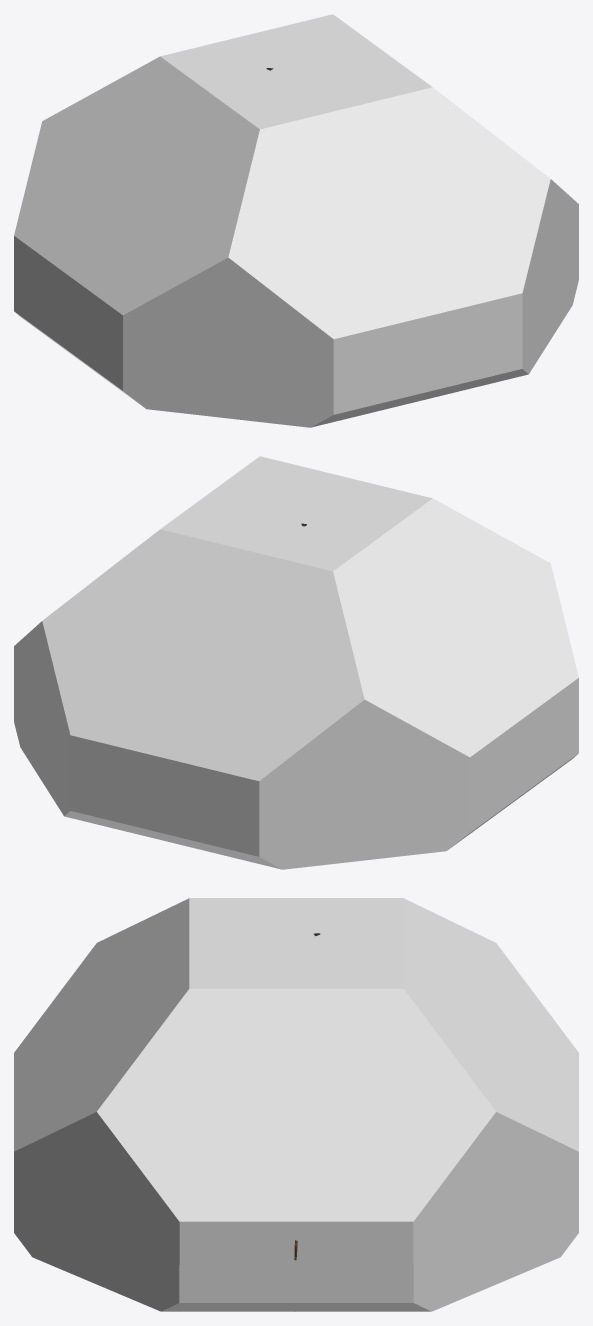
File: SM_temple_dome_02.fbx
The picture shows the model from 3 angles, top to bottom: view 1: azimuth 30°, elevation 25°; view 2: azimuth 150°, elevation 25°; view 3: azimuth 270°, elevation 25°; orthographic projection. The views are drawn at different scales.
Visible parts, largest first — view 1: SM_temple_dome_02_ConvexHulls; view 2: SM_temple_dome_02_ConvexHulls; view 3: SM_temple_dome_02_ConvexHulls.
Boxes of the visible parts, box(x1,y1,x2,y2) form: SM_temple_dome_02_ConvexHulls: box(14, 14, 578, 427); SM_temple_dome_02_ConvexHulls: box(14, 456, 578, 869); SM_temple_dome_02_ConvexHulls: box(14, 898, 578, 1311).
Bounding box in the file's own units: 877 × 876 × 440.
